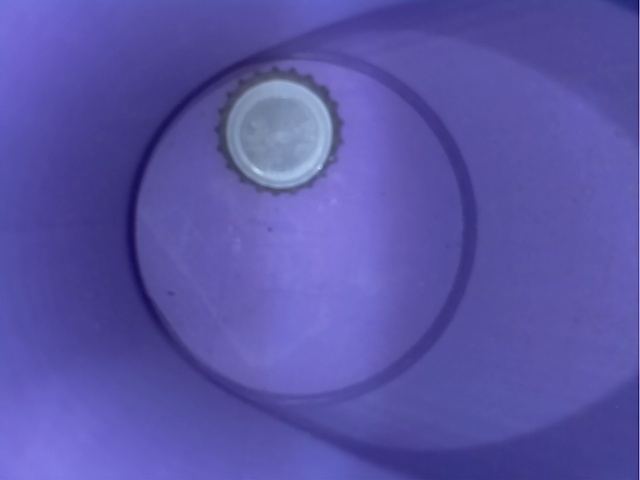capsule: (193, 53, 374, 203)
